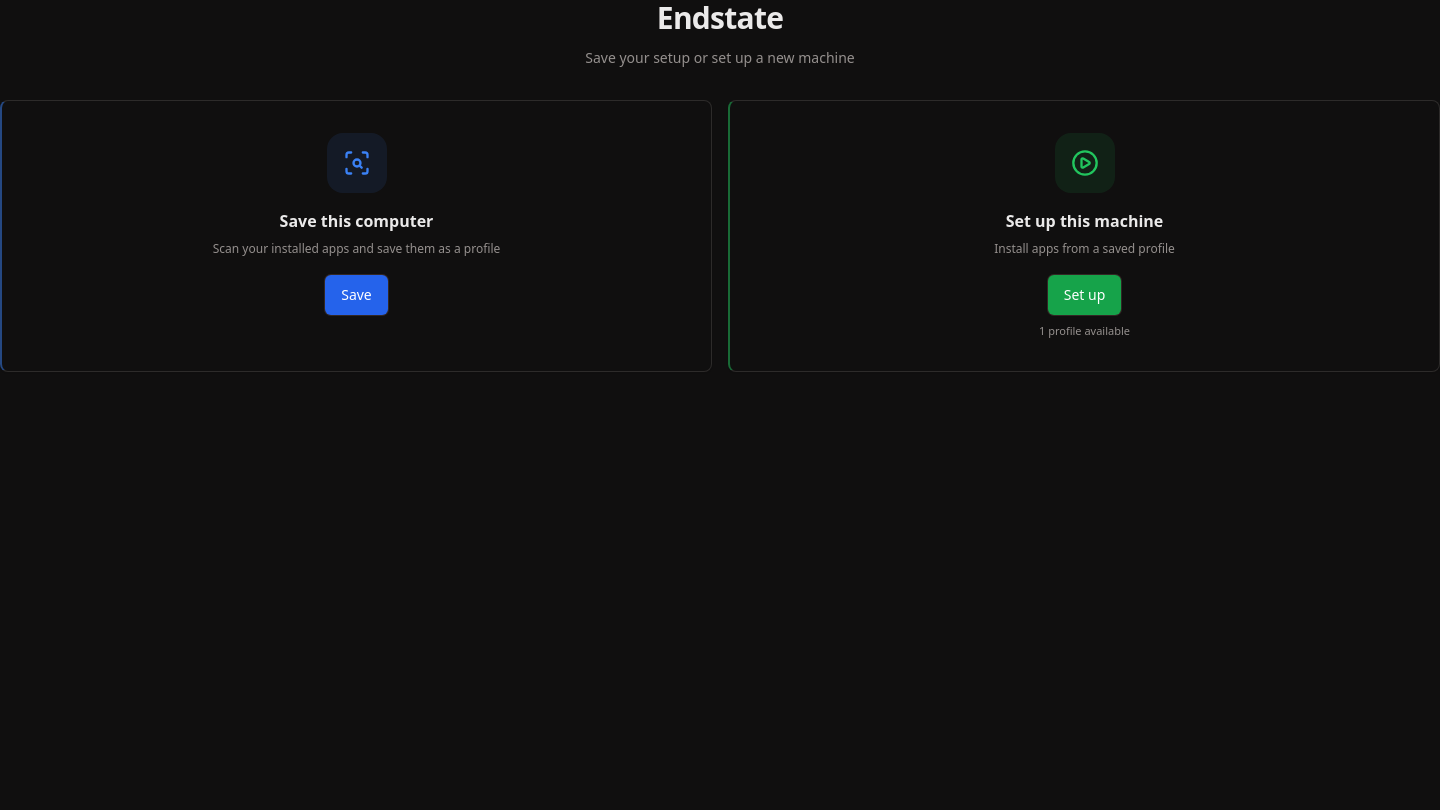
Scenario: Overview Details Modal - Per-Action State › should show Setup Preview details after completion (runningAction cleared)
// Enter setup flow to see the action content
Click the button with test id "flow-setup" at (1084, 236), box [728,100,1439,372]
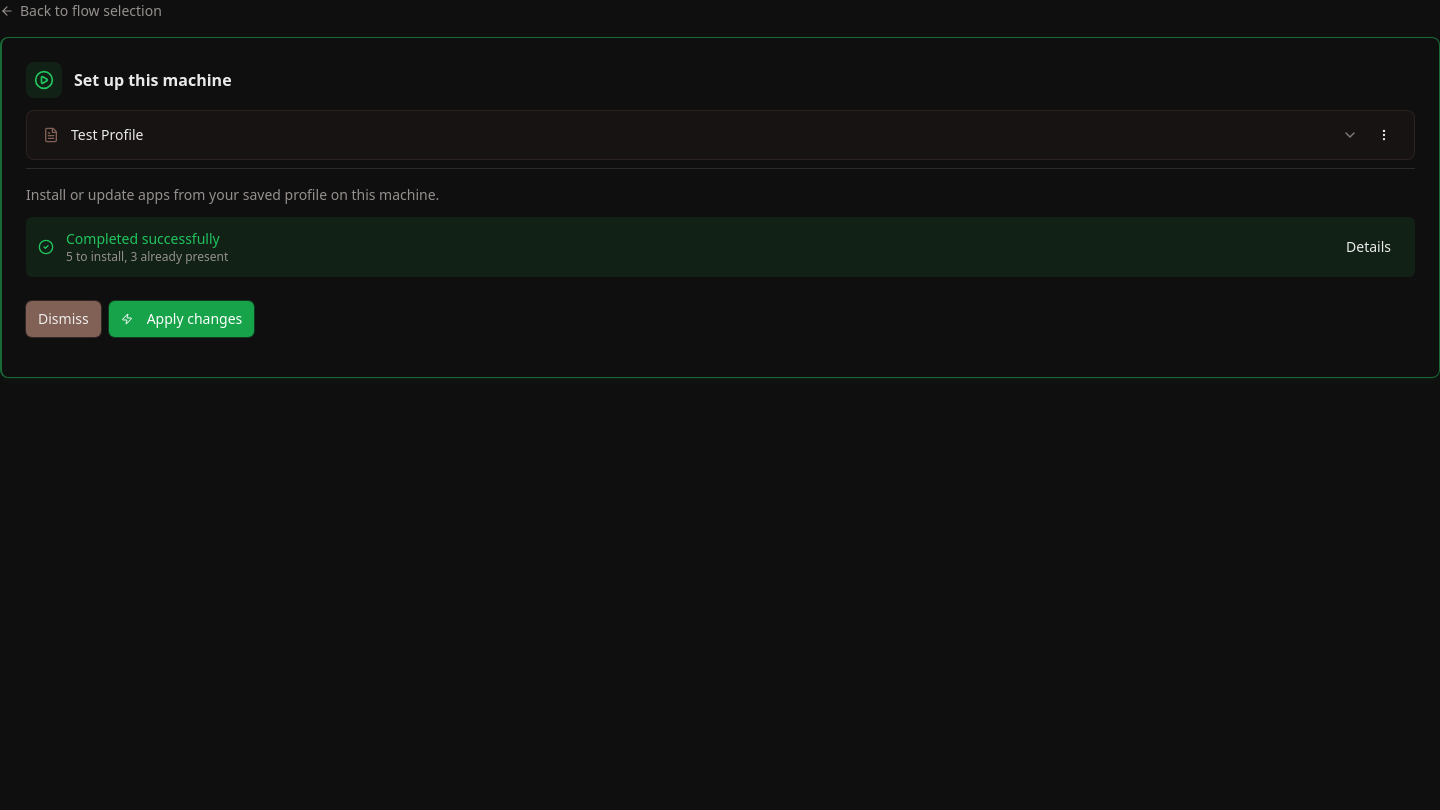
// Click Details button
Click the button "Details" at (1368, 247), box [1334,229,1403,265]
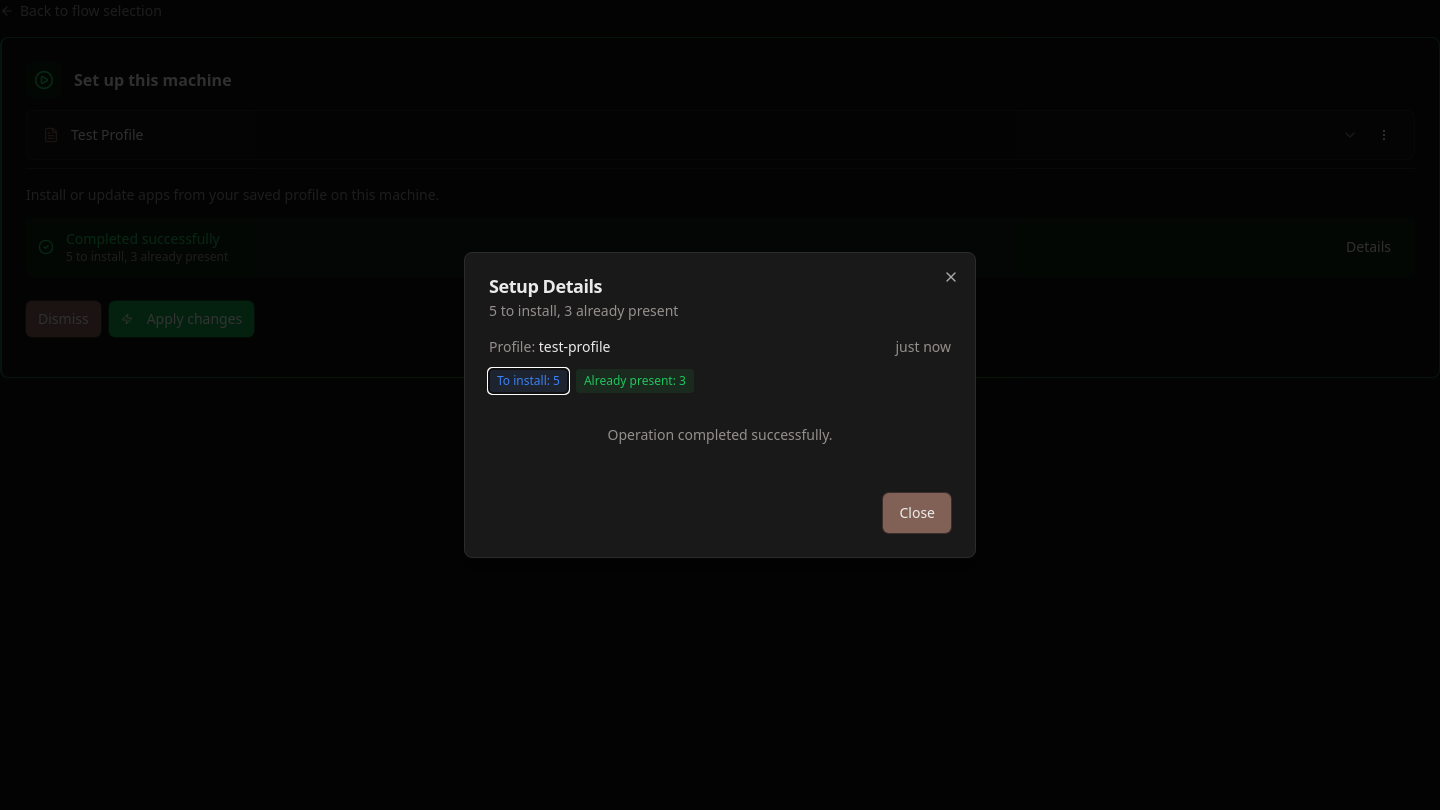
Check: the text "5 to install, 3 already present" below "Set up this machine" is shown, box [66,248,228,265]
Check: the heading "Setup Details" is shown, box [489,274,602,298]
